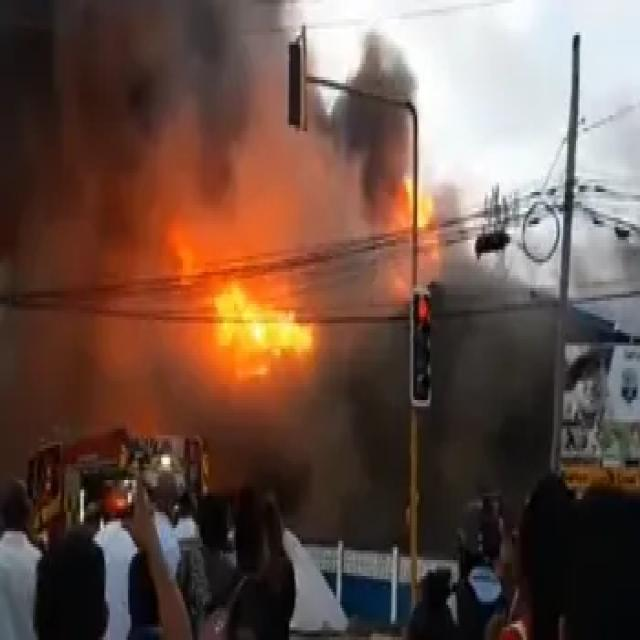Fire: (200, 288, 314, 387), (384, 186, 462, 266)
Smoke: (337, 46, 449, 197)
